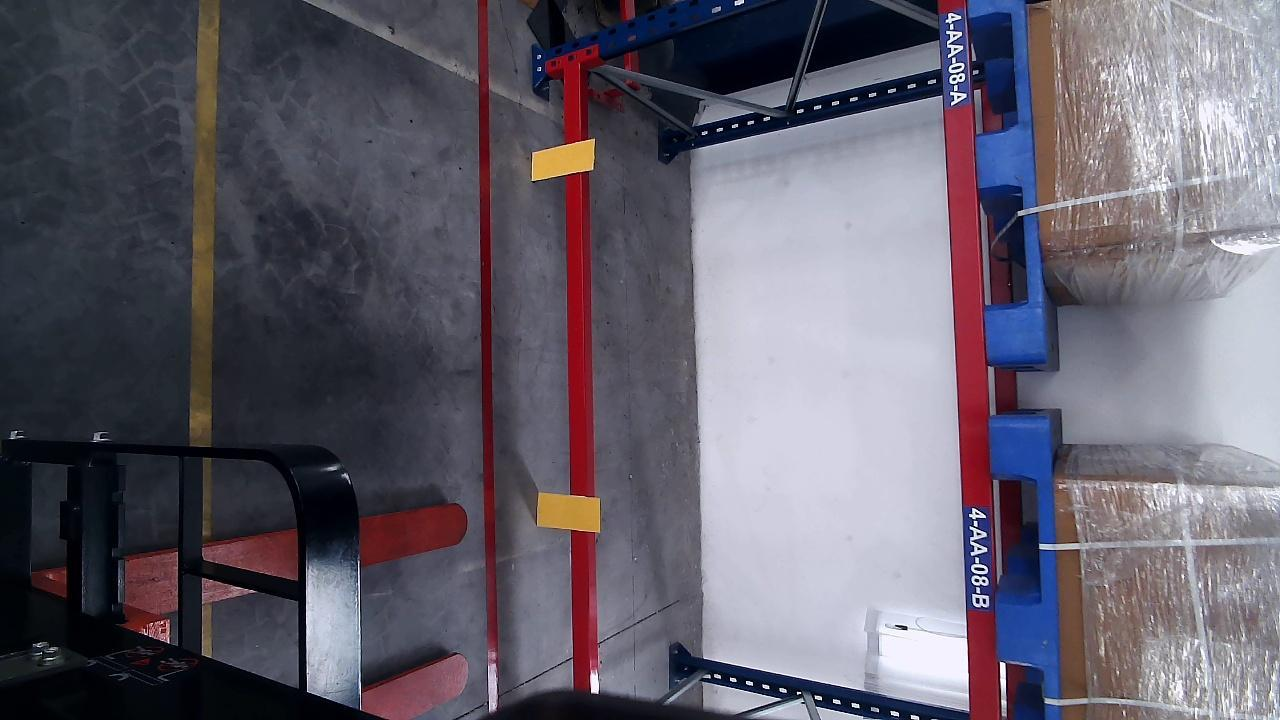h_rack: (934, 0, 1003, 720), (561, 64, 594, 687)
orange_strip: (532, 138, 596, 180), (535, 492, 603, 529)
red_line: (477, 1, 499, 715)
small_pallet: (967, 0, 1050, 360), (991, 422, 1062, 718)
yellow_line: (190, 0, 220, 440)
